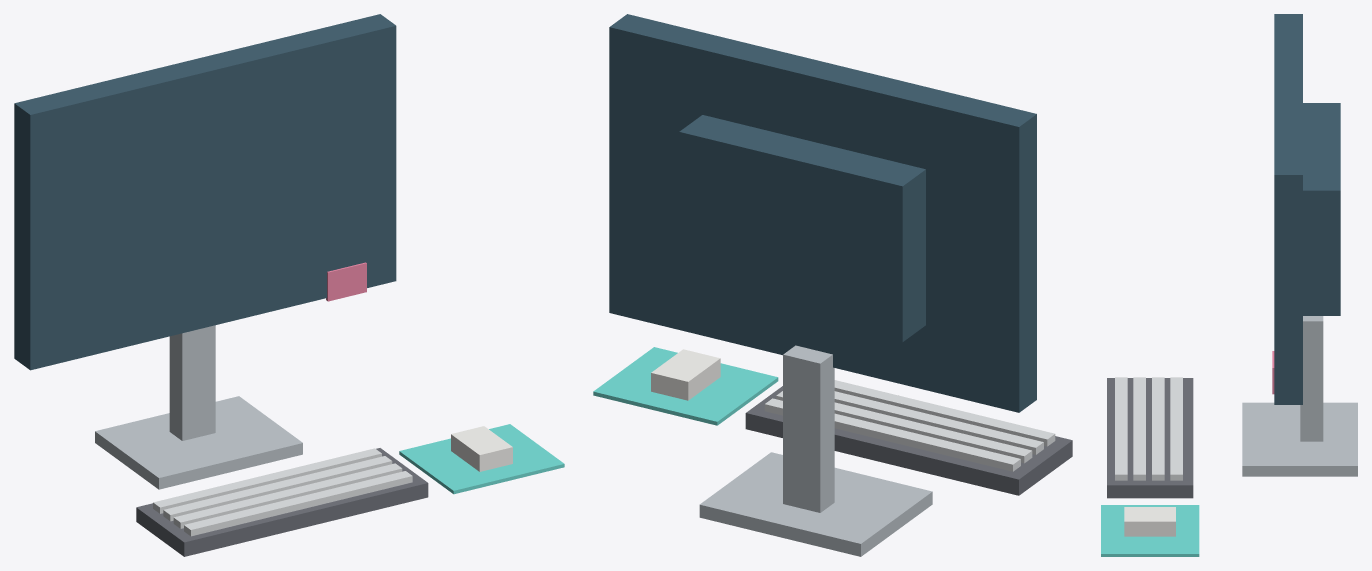
File: Computer.fbx
3 views of the same model, side by side, from view 1: azimuth 30°, elevation 25°; view 2: azimuth 150°, elevation 25°; view 3: azimuth 270°, elevation 25° (orthographic). The views are drawn at different scales.
Parts seen in each view (by area): view 1: Computer; view 2: Computer; view 3: Computer.
Boxes of the visible parts, box(x1,y1,x2,y2) form: Computer: box(14, 14, 564, 556); Computer: box(593, 14, 1072, 556); Computer: box(1101, 14, 1357, 556).
Size of the model in its own units: 0.79 by 0.67 by 0.445.
